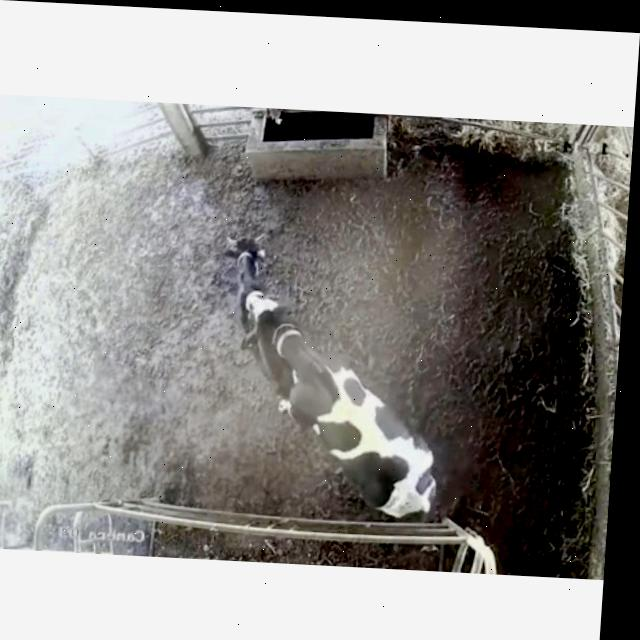ride: (197, 282, 469, 531)
